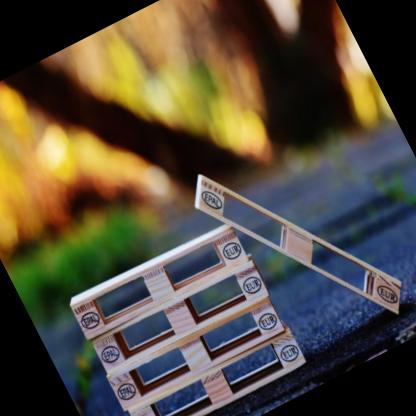BoxFace: (197, 178, 404, 315), (70, 222, 250, 342), (91, 265, 270, 376), (108, 299, 284, 407), (128, 332, 308, 416)
